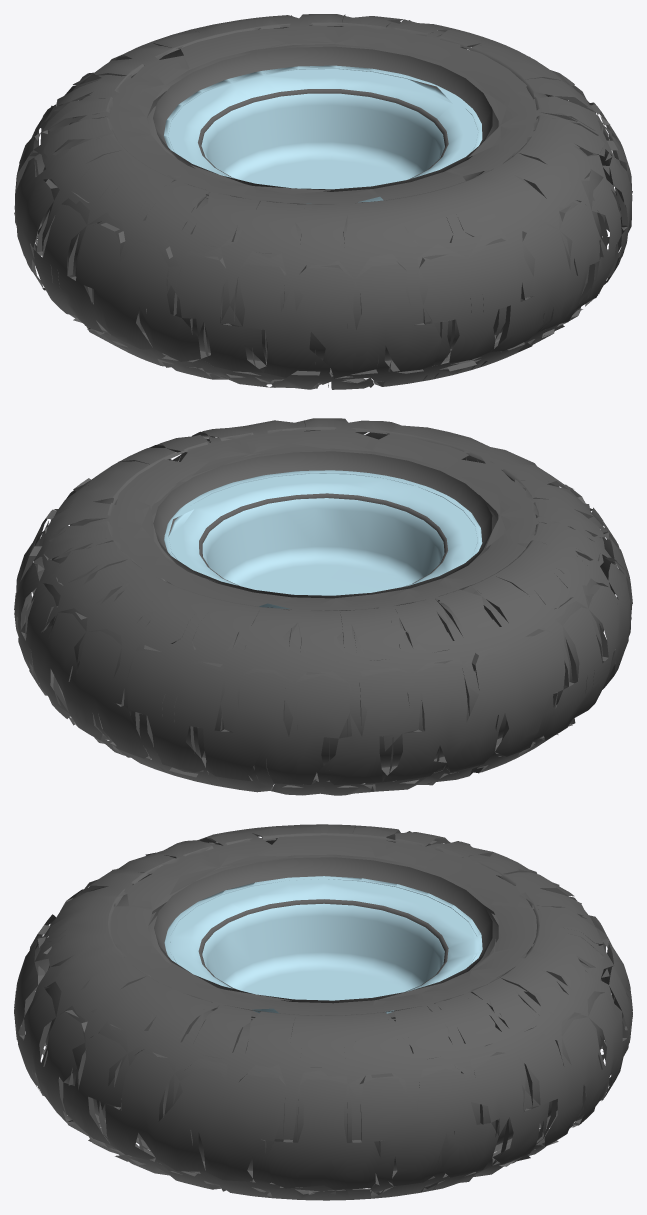
File: rear_right_wheel_visual.obj
3 views of the same model, one above another, from view 1: azimuth 30°, elevation 25°; view 2: azimuth 150°, elevation 25°; view 3: azimuth 270°, elevation 25° (orthographic).
Parts seen in each view (by area): view 1: rear_right_wheel_visual; view 2: rear_right_wheel_visual; view 3: rear_right_wheel_visual.
Boxes of the visible parts, x1,y1,x2,y2 form: rear_right_wheel_visual: (14,14,632,389); rear_right_wheel_visual: (14,418,632,795); rear_right_wheel_visual: (14,824,632,1200).
Size of the model in its own units: 0.255 by 0.0808 by 0.255.
